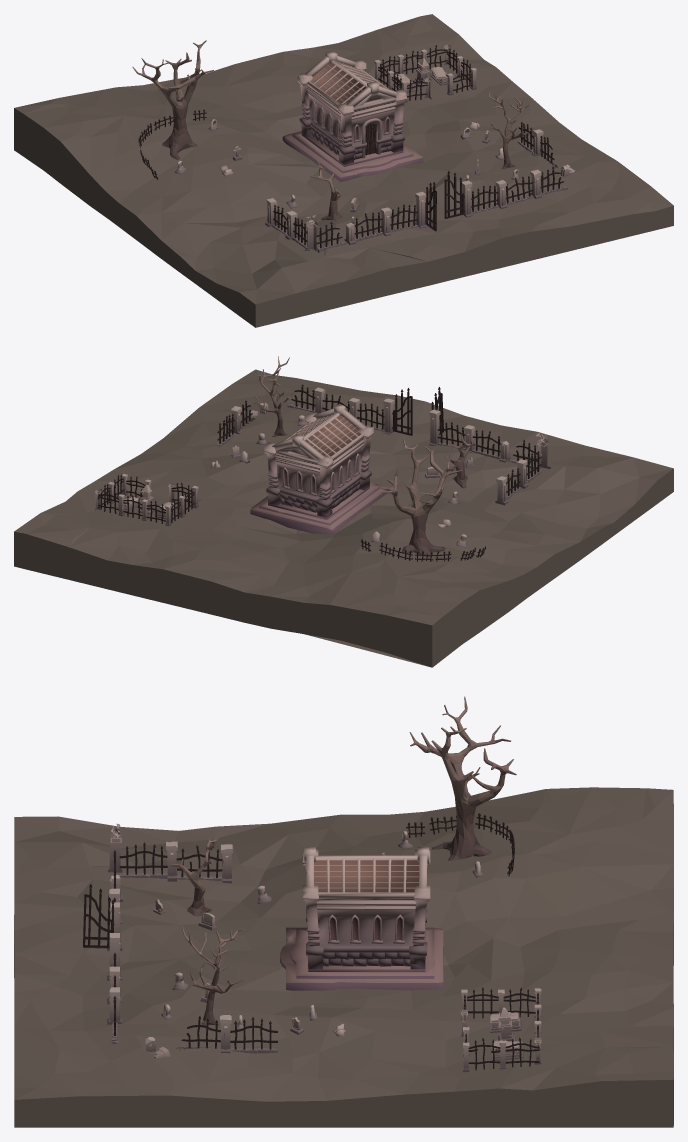
Rendered from graveyard.glb.
The picture shows the model from 3 angles, top to bottom: view 1: azimuth 30°, elevation 25°; view 2: azimuth 150°, elevation 25°; view 3: azimuth 270°, elevation 25°; orthographic projection. The views are drawn at different scales.
Visible parts, largest first — view 1: graveyardScene; view 2: graveyardScene; view 3: graveyardScene.
Part boxes in pixels (<box>): graveyardScene: <box>14,14,673,327</box>; graveyardScene: <box>14,356,673,667</box>; graveyardScene: <box>14,696,673,1127</box>.
Bounding box in the file's own units: 35.86 × 11.76 × 35.87.
Materials: 1 (1 with a texture image).
